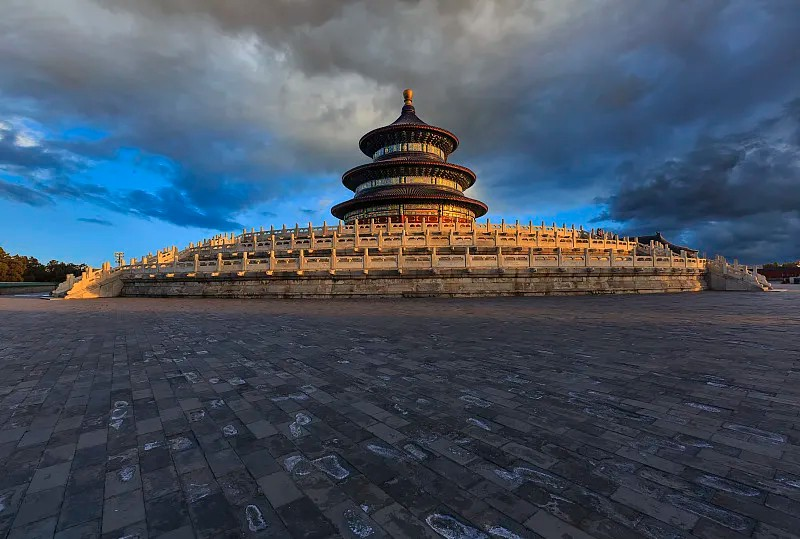Heaven: (330, 88, 489, 226)
